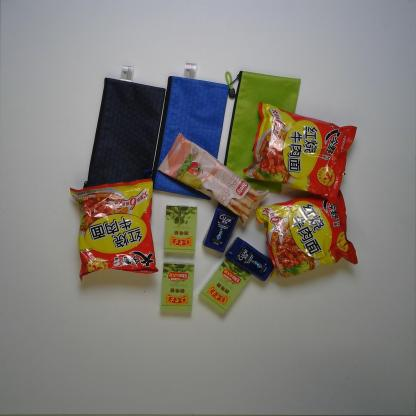Candy: (198, 257, 252, 315), (161, 261, 195, 313), (163, 203, 197, 254)
Dessert: (157, 133, 268, 228)
Instant Noodles: (241, 100, 358, 208), (254, 187, 360, 279), (69, 178, 159, 281)
Personal Hygiene: (224, 236, 275, 281), (200, 200, 240, 254)
Stationery: (82, 64, 166, 198), (151, 62, 230, 200), (220, 70, 304, 195)
